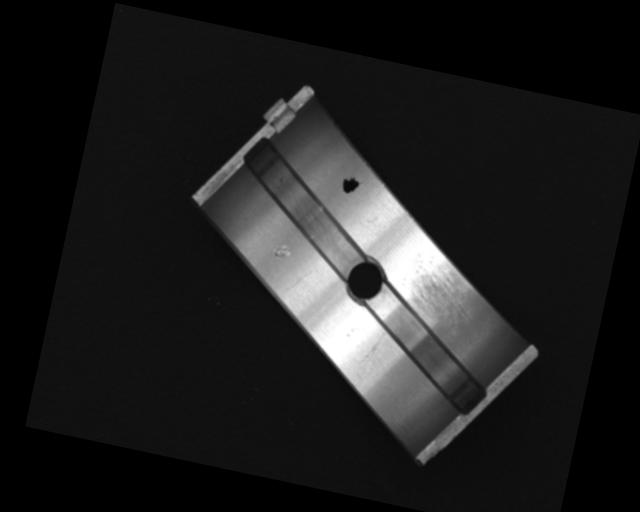blot: (339, 173, 362, 196)
bruise: (270, 241, 292, 261)
gap: (230, 140, 382, 277), (353, 291, 502, 419)
hole: (341, 256, 389, 305)
nick: (359, 325, 385, 373), (285, 265, 314, 294)
scratch: (397, 248, 486, 330)
